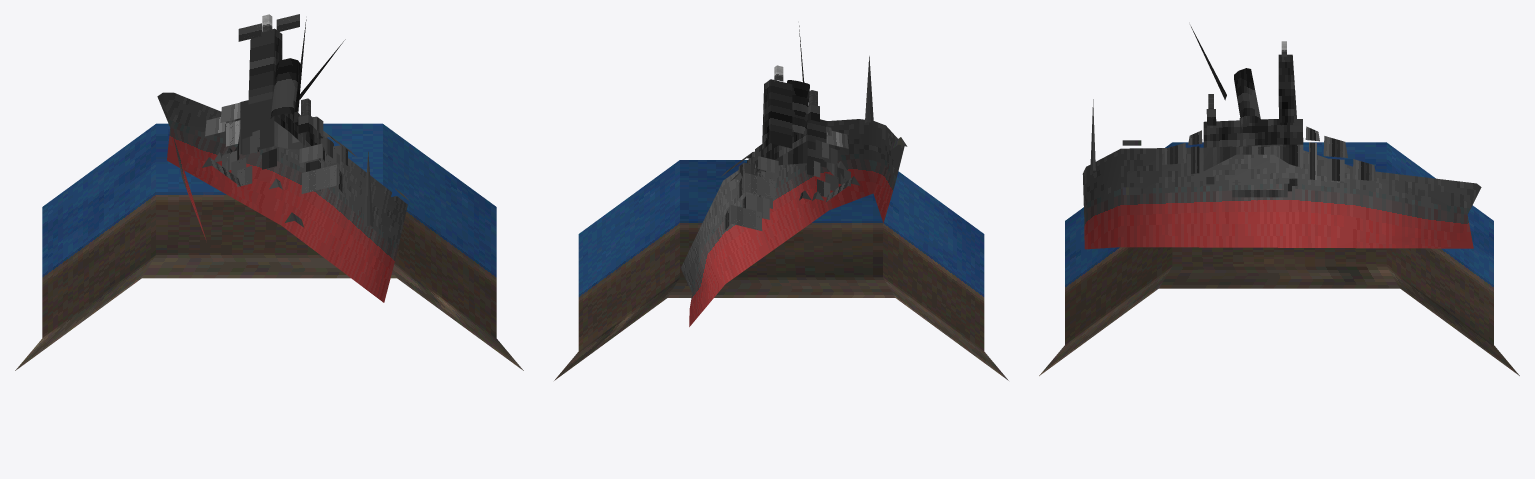
File: ps2_save-icons_daisenryaku1941.glb
The picture shows the model from 3 angles, left to right: view 1: azimuth 30°, elevation 25°; view 2: azimuth 150°, elevation 25°; view 3: azimuth 270°, elevation 25°; orthographic projection. The views are drawn at different scales.
Parts seen in each view (by area): view 1: list.ico; view 2: list.ico; view 3: list.ico.
Part boxes in pixels (x1=…): list.ico: x1=15, y1=14, x2=523, y2=370; list.ico: x1=554, y1=25, x2=1008, y2=380; list.ico: x1=1039, y1=25, x2=1519, y2=375.
Bounding box in the file's own units: 4.12 × 3.95 × 4.76.
1 material, 1 textured.
